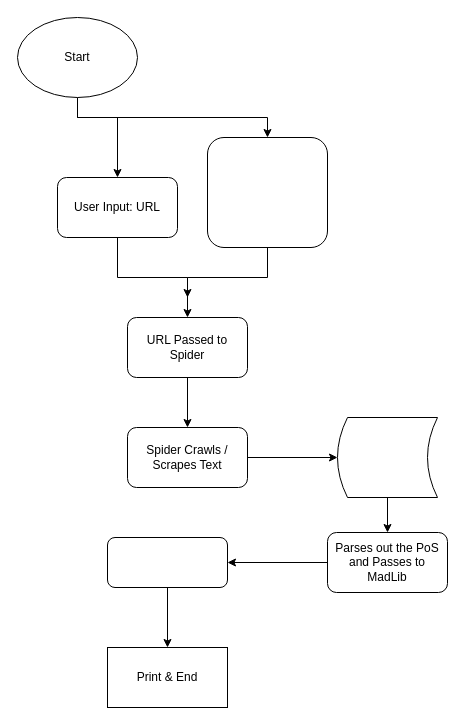
This 465x725 diagram has some shape labels left out. Here are the shapes that lost their labels. From the top down, the box of each, then its label:
(206, 136, 328, 248): Socks5 connection * HTTP * HTTPs
(336, 416, 438, 498): NLTK PoS
(106, 536, 228, 588): Fill in the Madlib with PoS
